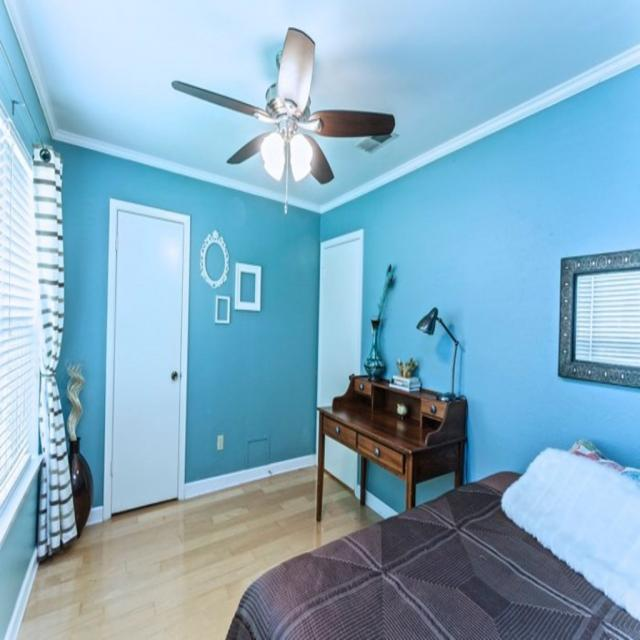fan_off: (176, 27, 395, 186)
